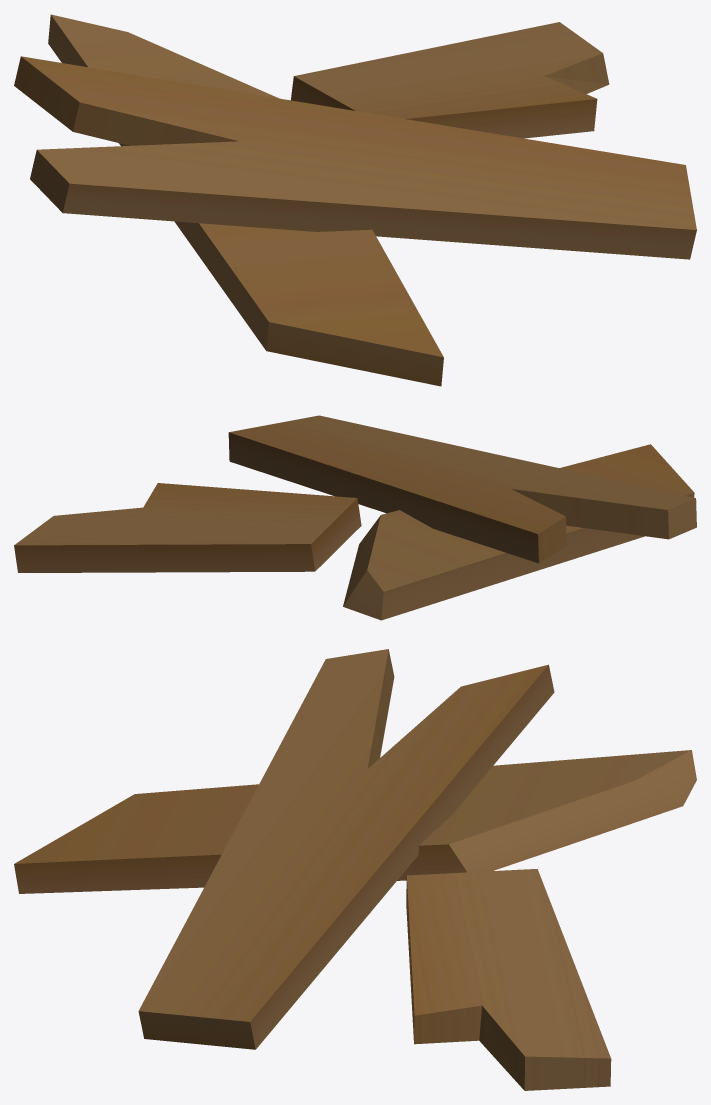
Rendered from Wood_2.fbx.
3 renders of one model, top to bottom at view 1: azimuth 30°, elevation 25°; view 2: azimuth 150°, elevation 25°; view 3: azimuth 270°, elevation 25°, orthographic. The views are drawn at different scales.
Visible parts, largest first — view 1: polySurface9772; view 2: polySurface9772; view 3: polySurface9772.
Part boxes in pixels (x1=…): polySurface9772: x1=14, y1=14, x2=696, y2=386; polySurface9772: x1=14, y1=415, x2=696, y2=620; polySurface9772: x1=14, y1=649, x2=696, y2=1090.
Bounding box in the file's own units: 209 × 51.03 × 197.
